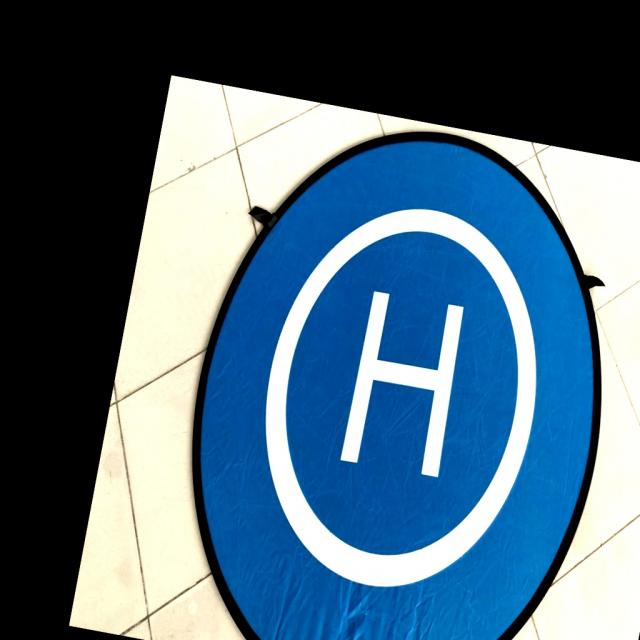helipad: (260, 200, 542, 590)
